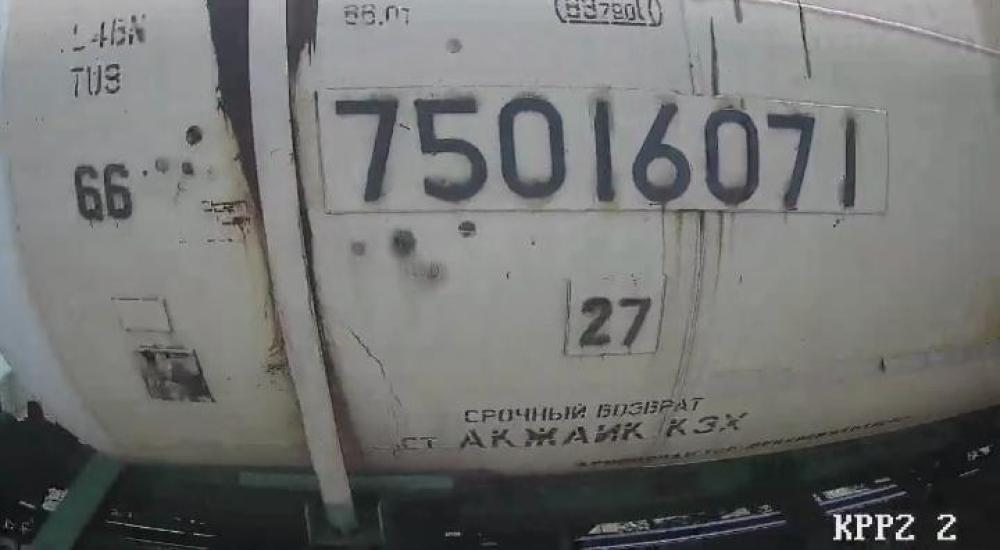Wagon-number: (335, 84, 863, 218)
